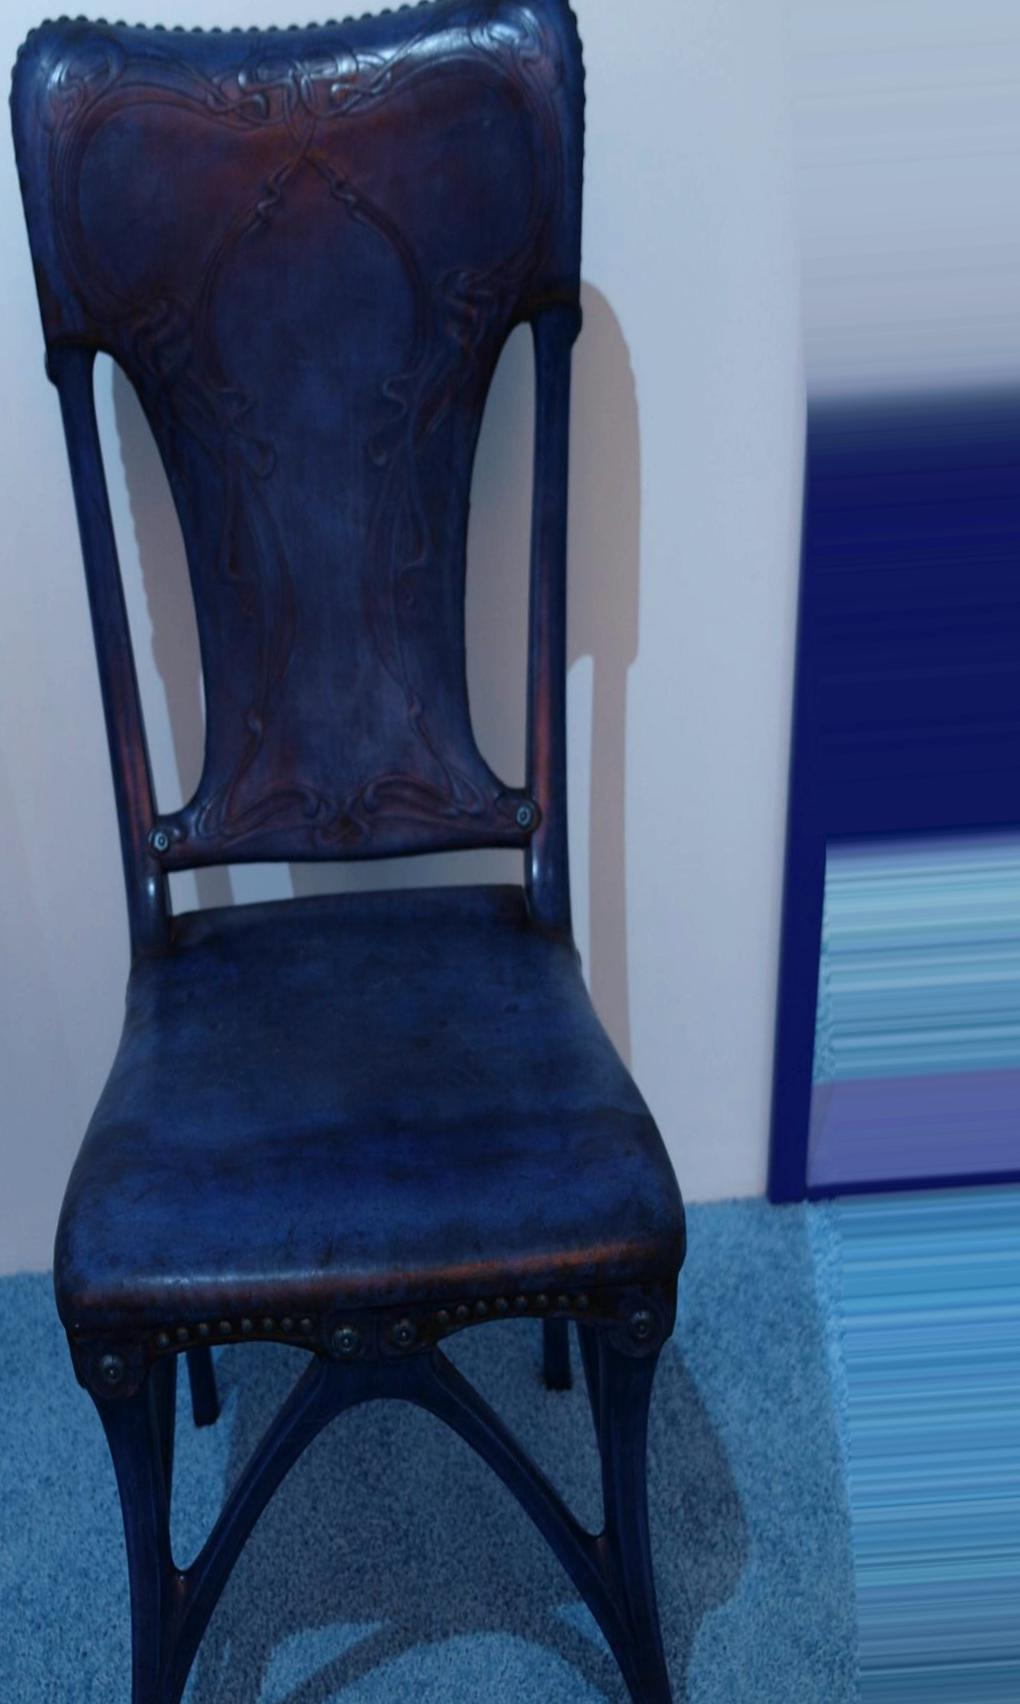chair: (12, 1, 697, 1704)
